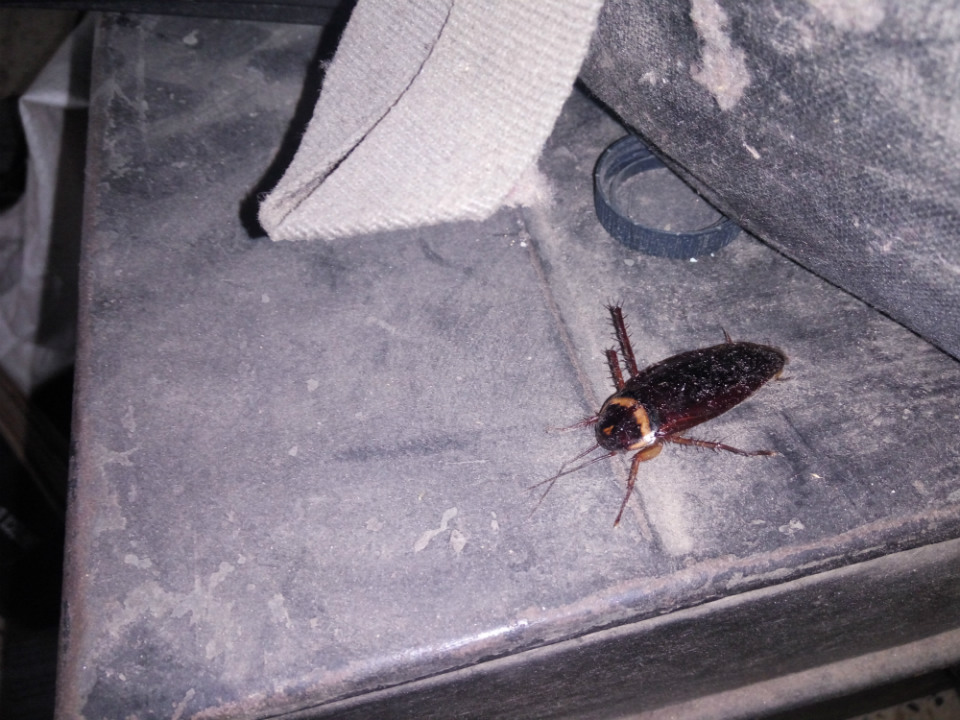cockroach: (457, 270, 856, 529)
